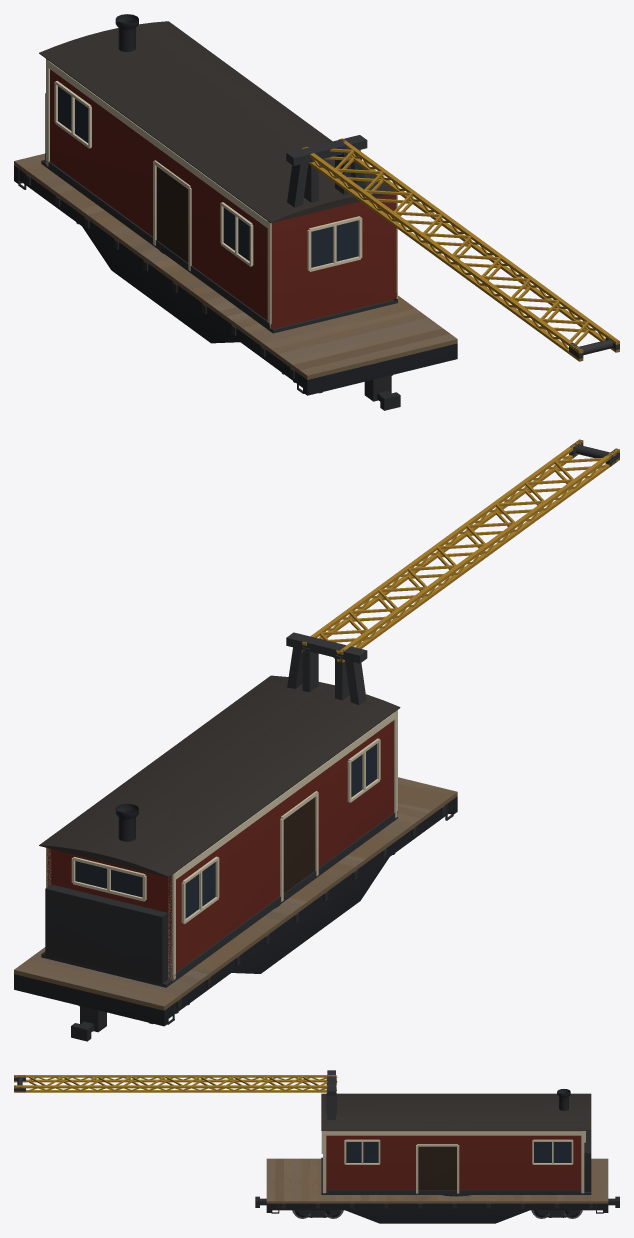
Rendered from crane.glb.
3 renders of one model, top to bottom at view 1: azimuth 30°, elevation 25°; view 2: azimuth 150°, elevation 25°; view 3: azimuth 270°, elevation 25°, orthographic. The views are drawn at different scales.
Visible parts, largest first — view 1: Far, House, Body, Boom; view 2: Far, House, Body, Boom; view 3: Far, Body, Boom, House.
Part boxes in pixels (left/top/right/bottom): Far: left=15, top=14, right=619, bottom=382; House: left=40, top=14, right=397, bottom=330; Body: left=14, top=153, right=457, bottom=410; Boom: left=312, top=148, right=612, bottom=355; Far: left=14, top=439, right=619, bottom=1013; House: left=39, top=637, right=397, bottom=986; Body: left=14, top=777, right=457, bottom=1041; Boom: left=302, top=440, right=619, bottom=662; Far: left=14, top=1070, right=608, bottom=1217; Body: left=255, top=1158, right=619, bottom=1223; Boom: left=14, top=1075, right=322, bottom=1092; House: left=378, top=1089, right=584, bottom=1196.
Bounding box in the file's own units: 5.99 × 8.23 × 35.48.
